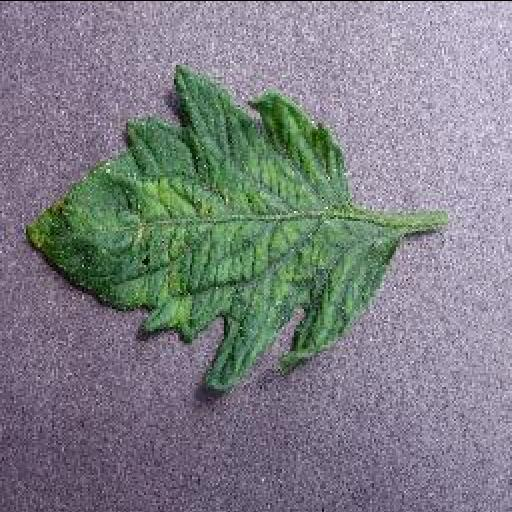disease_tomato: (24, 62, 398, 391)
